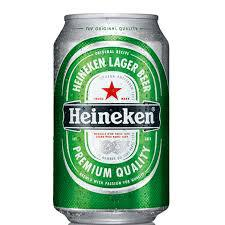beer: (52, 13, 169, 224)
